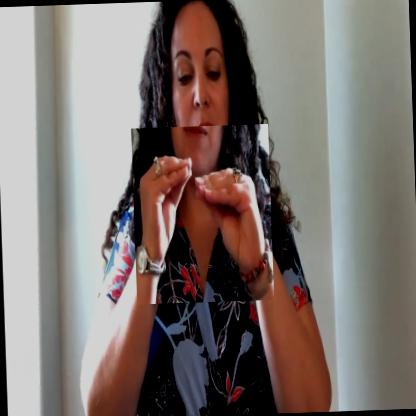Fix: (131, 124, 274, 304)
